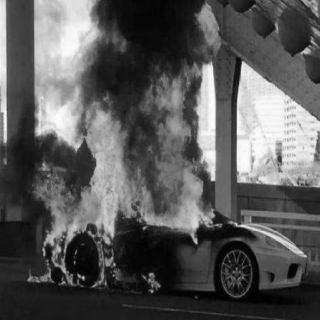Fire: (27, 41, 217, 298)
